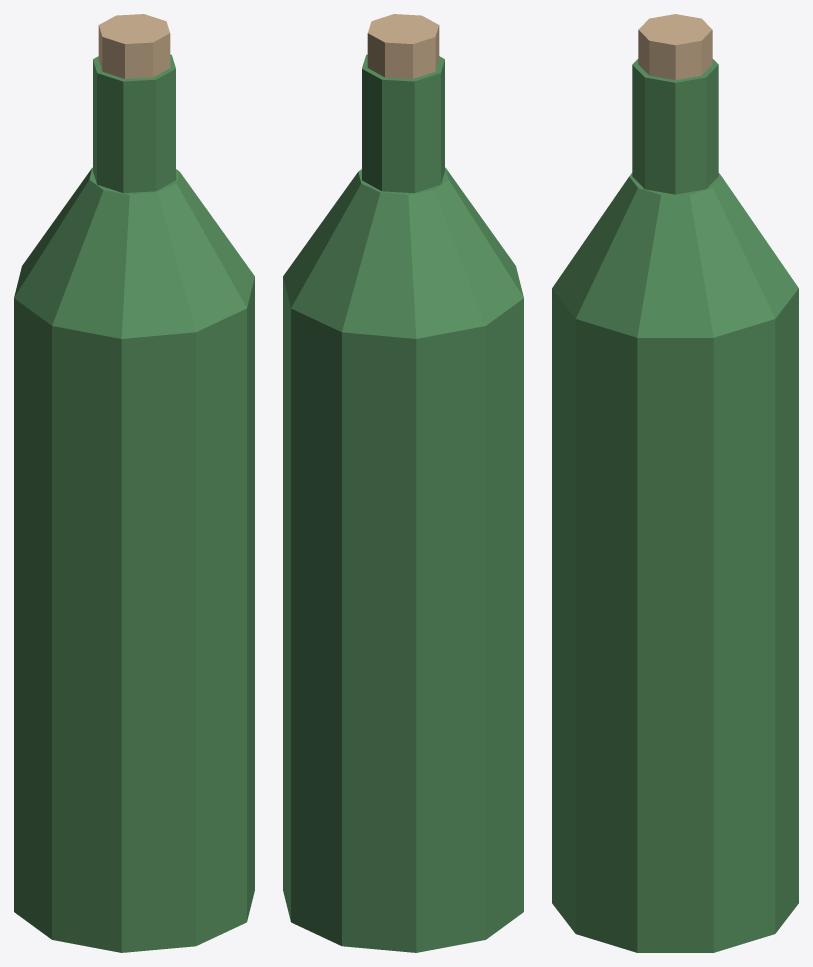
Rendered from botella.glb.
3 views of the same model, side by side, from view 1: azimuth 30°, elevation 25°; view 2: azimuth 150°, elevation 25°; view 3: azimuth 270°, elevation 25° (orthographic).
Parts seen in each view (by area): view 1: botella; view 2: botella; view 3: botella.
Boxes of the visible parts, x1=… form: botella: x1=14, y1=14, x2=254, y2=952; botella: x1=283, y1=14, x2=523, y2=952; botella: x1=552, y1=14, x2=798, y2=952.
Bounding box in the file's own units: 0.0761 × 0.3125 × 0.08.
